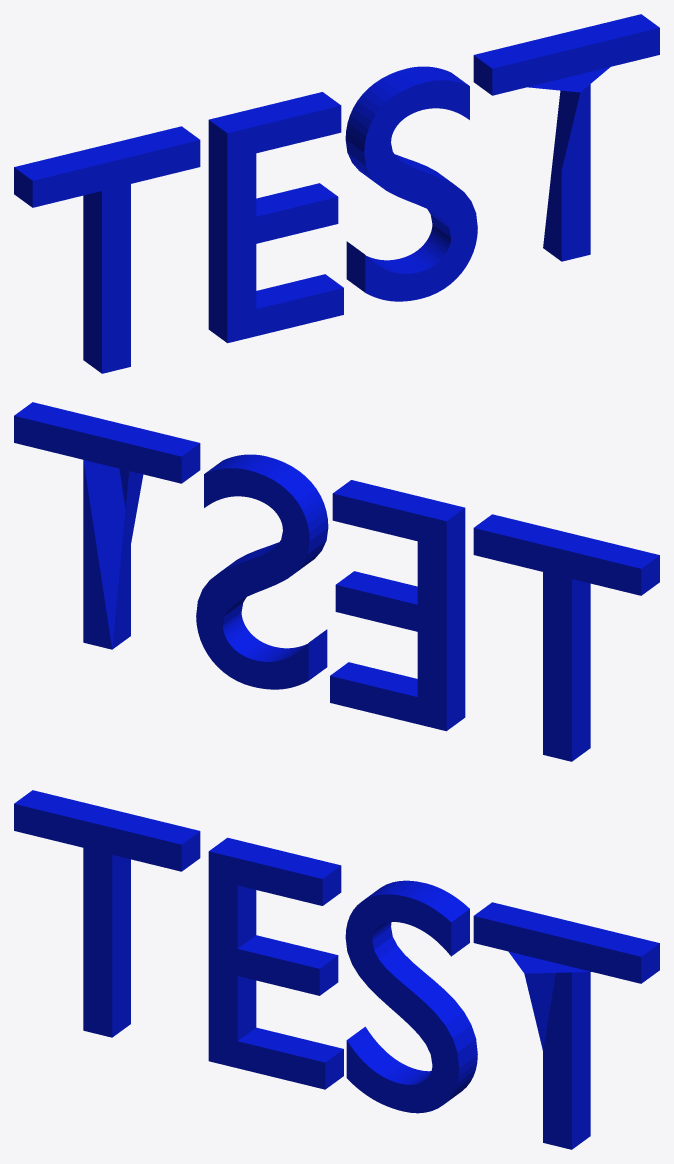
The picture shows the model from 3 angles, top to bottom: view 1: azimuth 30°, elevation 25°; view 2: azimuth 150°, elevation 25°; view 3: azimuth 330°, elevation 25°; orthographic projection.
Visible parts, largest first — view 1: Text; view 2: Text; view 3: Text.
Part boxes in pixels (bbox=[...]): Text: bbox=[14, 14, 659, 373]; Text: bbox=[14, 402, 659, 761]; Text: bbox=[14, 790, 659, 1149].
Size of the model in its own units: 213 by 70 by 22.
